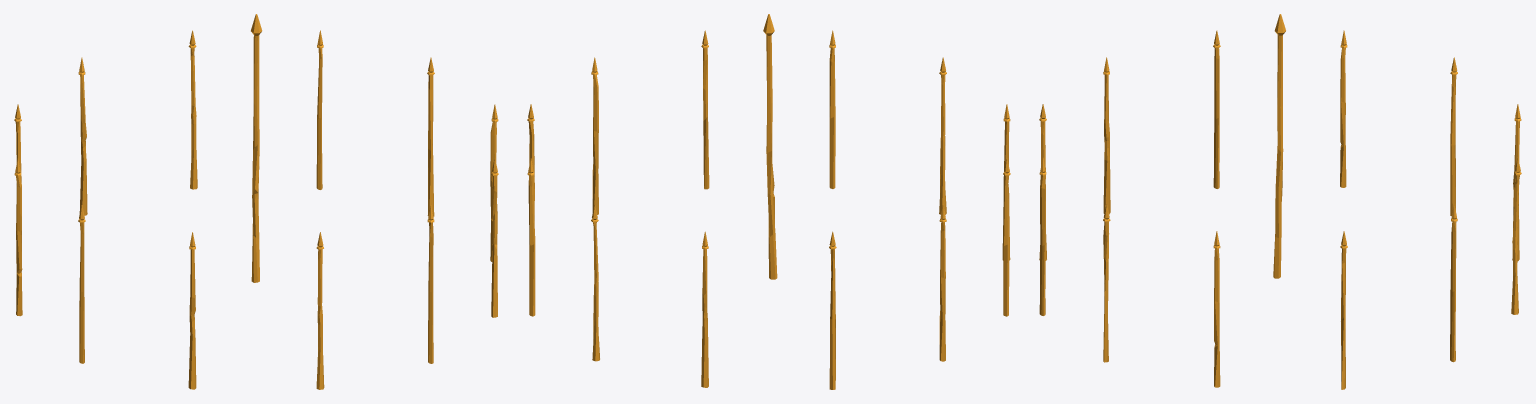
File: SM_Tent_Dodecagon_Striped_Construct_A_Frame_Fantasy.fbx
3 views of the same model, side by side, from view 1: azimuth 30°, elevation 25°; view 2: azimuth 150°, elevation 25°; view 3: azimuth 270°, elevation 25° (orthographic).
Visible parts, largest first — view 1: tent-dodecagon-striped-construct-a-frame-fantasy; view 2: tent-dodecagon-striped-construct-a-frame-fantasy; view 3: tent-dodecagon-striped-construct-a-frame-fantasy.
Part boxes in pixels (x1,y1,x2,y2): tent-dodecagon-striped-construct-a-frame-fantasy: (14, 14, 498, 389); tent-dodecagon-striped-construct-a-frame-fantasy: (527, 14, 1010, 389); tent-dodecagon-striped-construct-a-frame-fantasy: (1039, 14, 1521, 389).
Size of the model in its own units: 9.55 by 6 by 9.55.
